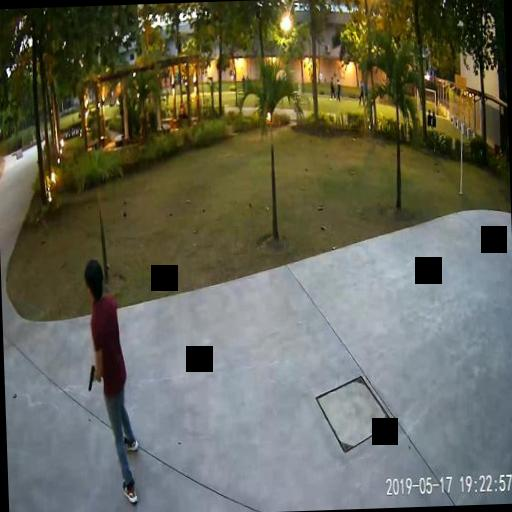Handgun: (86, 362, 100, 389)
